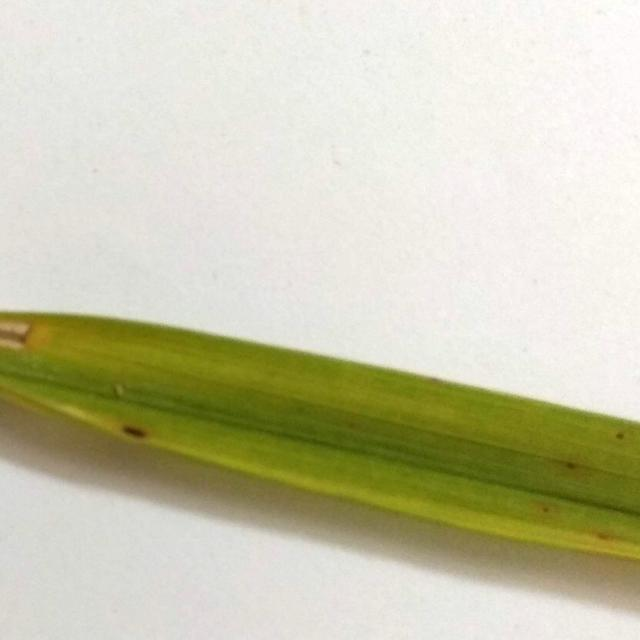Brown spot: (0, 290, 640, 596)
